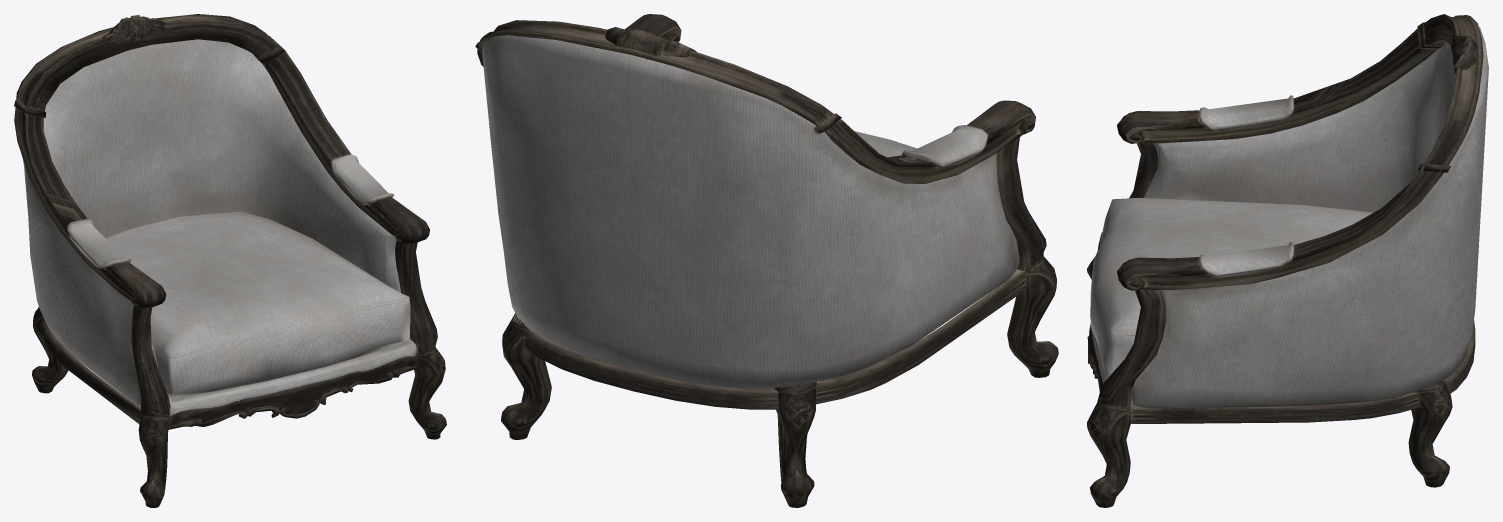
Rendered from ArmChair_01_lod1.glb.
3 views of the same model, side by side, from view 1: azimuth 30°, elevation 25°; view 2: azimuth 150°, elevation 25°; view 3: azimuth 270°, elevation 25° (orthographic). The views are drawn at different scales.
Visible parts, largest first — view 1: ArmChair_01; view 2: ArmChair_01; view 3: ArmChair_01.
Part boxes in pixels (box(x1,y1,x2,y2)): ArmChair_01: box(14, 14, 446, 507); ArmChair_01: box(475, 14, 1058, 507); ArmChair_01: box(1087, 14, 1488, 507).
Size of the model in its own units: 0.8498 by 0.8999 by 0.8501.
Materials: 1 (1 with a texture image).
